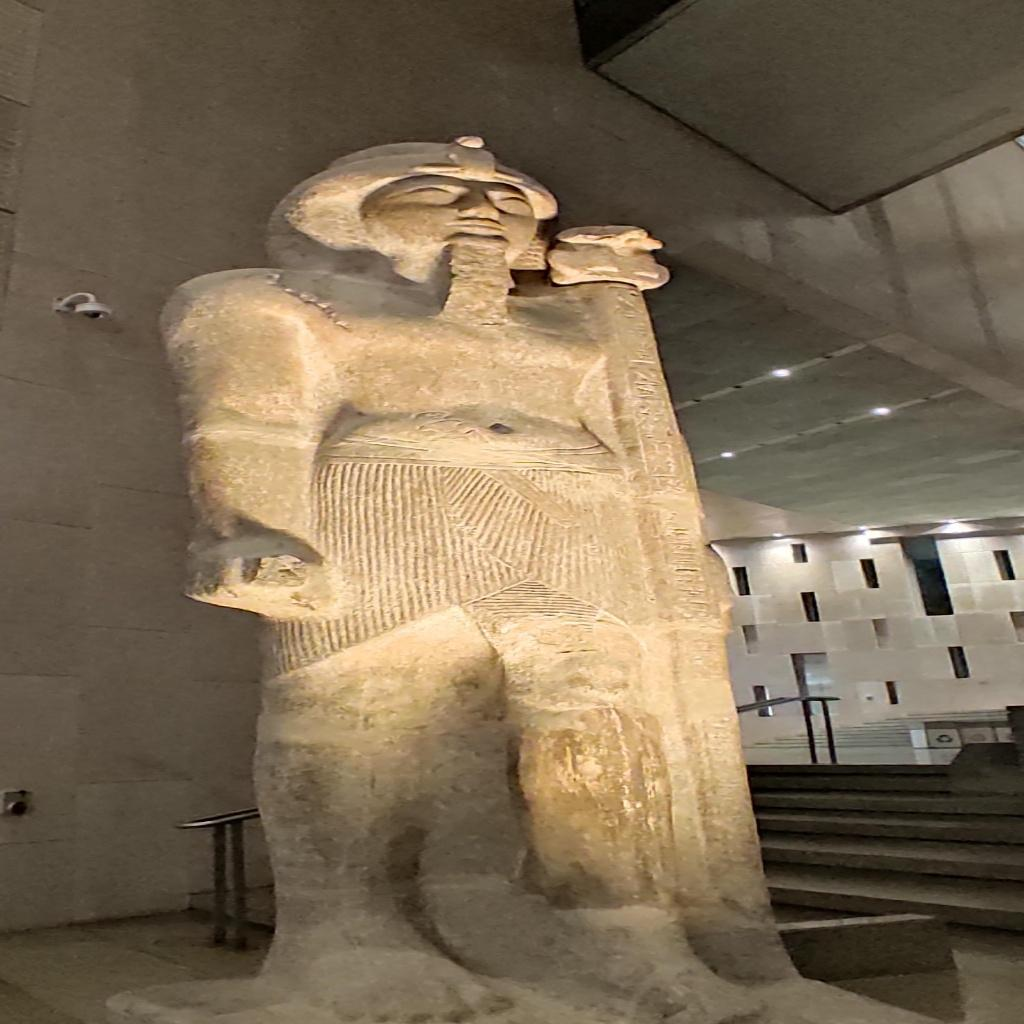Statue of Ramesses III as standard Bearer: (164, 134, 890, 1024)
